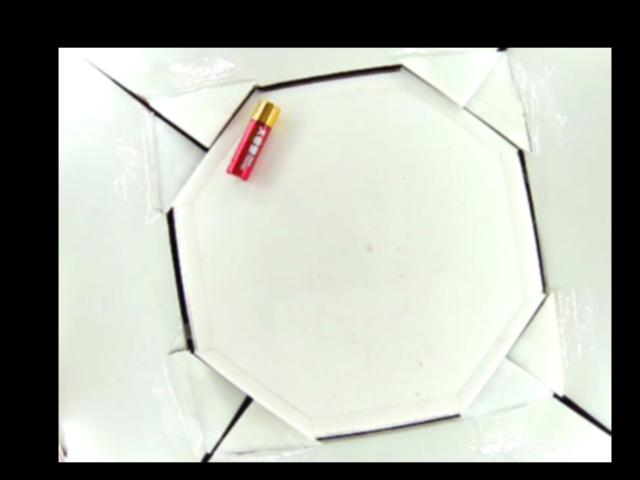Battery: (226, 99, 282, 183)
